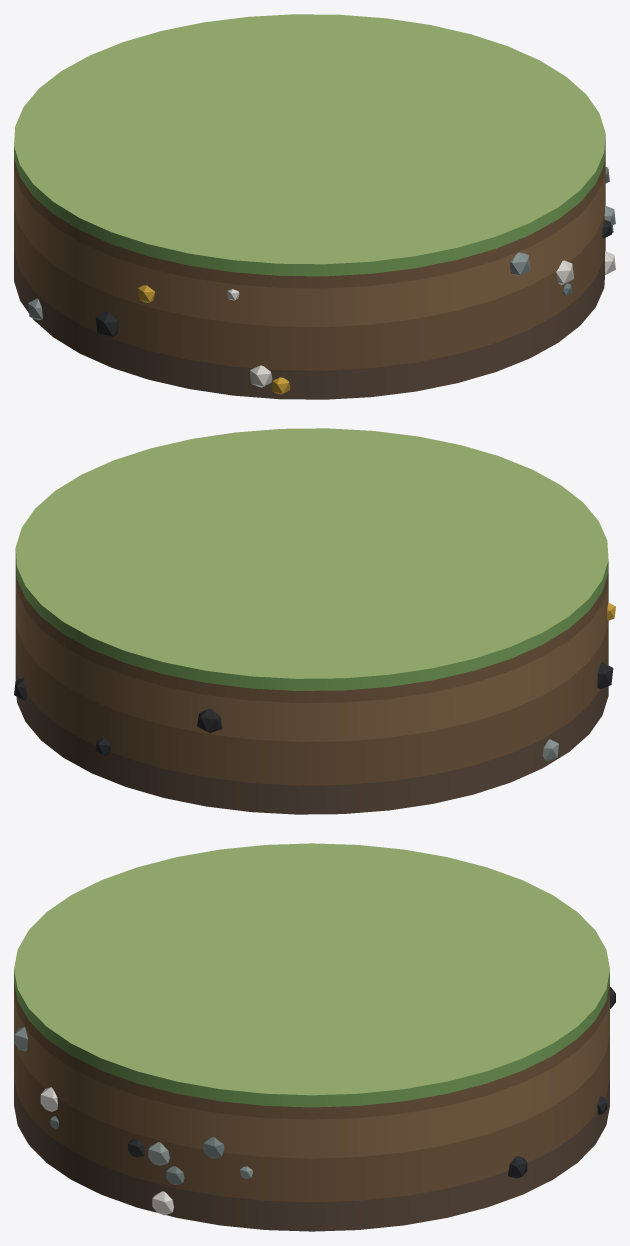
File: jar_soil.glb
The picture shows the model from 3 angles, top to bottom: view 1: azimuth 30°, elevation 25°; view 2: azimuth 150°, elevation 25°; view 3: azimuth 270°, elevation 25°; orthographic projection.
Visible parts, largest first — view 1: body; view 2: body; view 3: body.
Boxes of the visible parts, x1=… form: body: x1=14, y1=14, x2=615, y2=399; body: x1=14, y1=428, x2=615, y2=814; body: x1=14, y1=843, x2=615, y2=1231.
Bounding box in the file's own units: 11.23 × 2.84 × 11.21.
